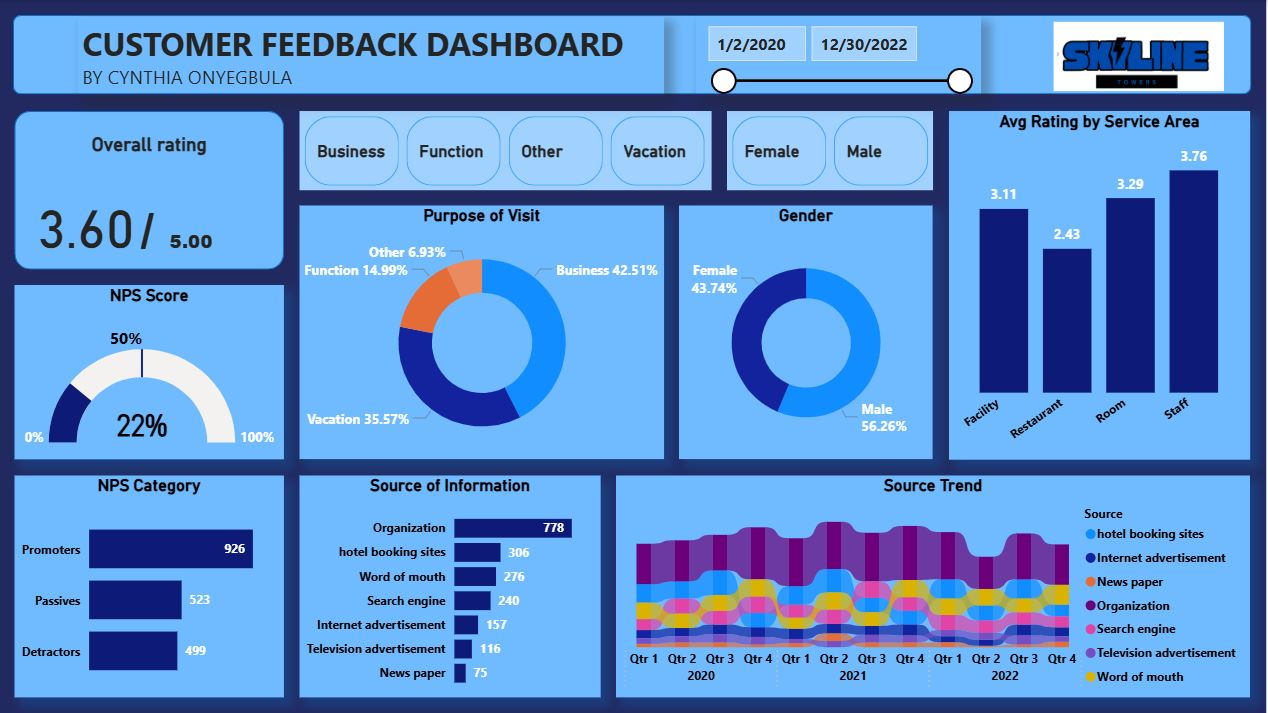

The page's visual inventory and layout, read from the dashboard file:
{"tool":"powerbi","page":{"name":"Page 1","canvas":[1280,720],"ordinal":0},"visuals":[{"type":"shape","box":[15,15,1250,80],"z":0},{"type":"shape","title":"Overall Rating","box":[16,112,272,160],"z":1000},{"type":"advancedSlicerVisual","fields":{"Values":["General.Purpose"]},"box":[304,112,416,80],"z":2000},{"type":"advancedSlicerVisual","fields":{"Values":["General.Gender"]},"box":[736,112,208,80],"z":3000},{"type":"clusteredBarChart","title":"NPS Category","fields":{"Category":["General.NPS"],"Y":["CountNonNull(General.NPS)"]},"box":[16,480,272,224],"z":4000},{"type":"donutChart","title":"Purpose of Visit","fields":{"Category":["General.Purpose"],"Y":["CountNonNull(General.Purpose)"]},"box":[304,208,368,256],"z":5000},{"type":"donutChart","title":"Gender","fields":{"Category":["General.Gender"],"Y":["CountNonNull(General.Gender)"]},"box":[688,208,256,256],"z":6000},{"type":"clusteredBarChart","title":"Source of Information","fields":{"Category":["General.Source"],"Y":["CountNonNull(General.Source)"]},"box":[304,480,304,224],"z":7000},{"type":"gauge","fields":{"Y":["General.NPS Score"]},"box":[16,288,272,176],"z":8000},{"type":"ribbonChart","title":"Source Trend","fields":{"Y":["CountNonNull(General.Source)"],"Series":["General.Source"],"Category":["General.Checkout Date.Variation.Date Hierarchy.Year","General.Checkout Date.Variation.Date Hierarchy.Quarter"]},"box":[624,480,640,224],"z":9000},{"type":"clusteredColumnChart","title":"Avg Rating by Service Area","fields":{"Category":["Feedback.Feedback Category","Feedback.Feedback"],"Y":["Avg(Feedback.Rating Score)"]},"box":[960,112,304,352],"z":10000},{"type":"card","fields":{"Values":["Avg(General.Overall Experience)"]},"box":[16,176,144,96],"z":11000},{"type":"textbox","box":[80,16,592,80],"z":12000},{"type":"slicer","fields":{"Values":["General.Checkout Date"]},"box":[704,16,288,80],"z":13000},{"type":"image","box":[1024,16,256,80],"z":14000},{"type":"textbox","box":[16,128,272,48],"z":15000},{"type":"textbox","box":[144,192,368,96],"z":16000}]}

Visuals, with their boxes in screenshot pixels (x1, y1, x2, y2), scaled from the page's 1280x720 canvas onto the 1268x713 screenshot:
shape: crop(15, 15, 1253, 94)
"Overall Rating" shape: crop(16, 111, 285, 269)
advancedSlicerVisual - General.Purpose: crop(301, 111, 713, 190)
advancedSlicerVisual - General.Gender: crop(729, 111, 935, 190)
"NPS Category" clusteredBarChart: crop(16, 475, 285, 697)
"Purpose of Visit" donutChart: crop(301, 206, 666, 459)
"Gender" donutChart: crop(682, 206, 935, 459)
"Source of Information" clusteredBarChart: crop(301, 475, 602, 697)
gauge - General.NPS Score: crop(16, 285, 285, 459)
"Source Trend" ribbonChart: crop(618, 475, 1252, 697)
"Avg Rating by Service Area" clusteredColumnChart: crop(951, 111, 1252, 459)
card - Avg(General.Overall Experience): crop(16, 174, 158, 269)
textbox: crop(79, 16, 666, 95)
slicer - General.Checkout Date: crop(697, 16, 983, 95)
image: crop(1014, 16, 1267, 95)
textbox: crop(16, 127, 285, 174)
textbox: crop(143, 190, 507, 285)
